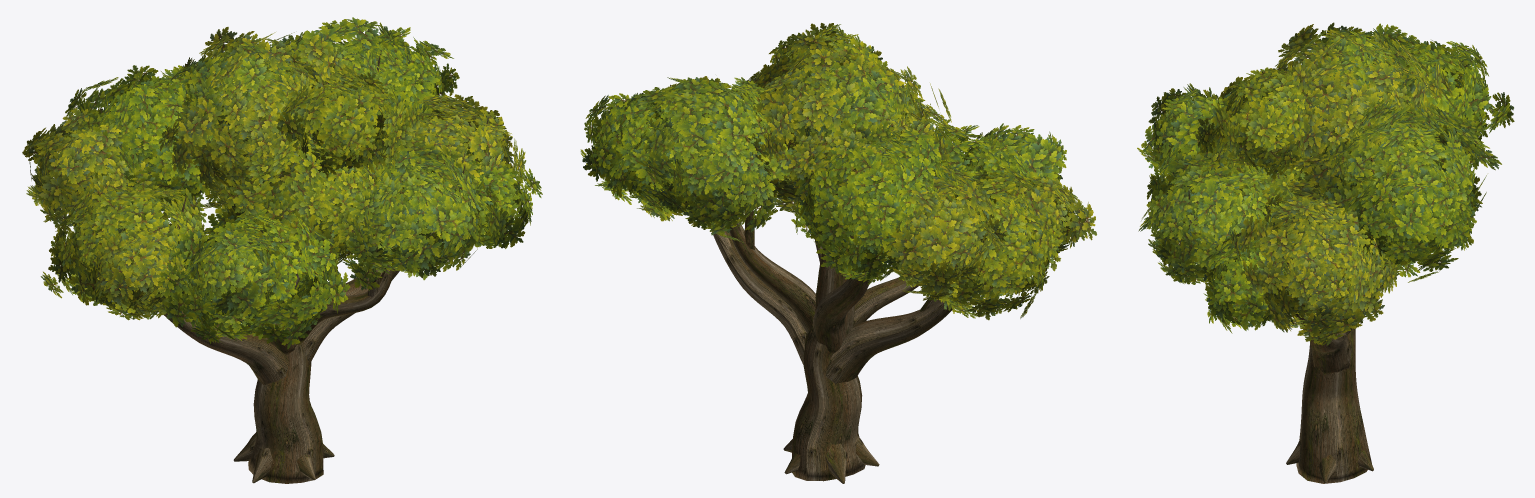
File: sunhaven-concept-oak-v2.glb
3 renders of one model, left to right at view 1: azimuth 30°, elevation 25°; view 2: azimuth 150°, elevation 25°; view 3: azimuth 270°, elevation 25°, orthographic.
Parts seen in each view (by area): view 1: Irregular clustered oak foliage, Low fork and spreading limbs; view 2: Irregular clustered oak foliage, Low fork and spreading limbs; view 3: Irregular clustered oak foliage, Low fork and spreading limbs.
Boxes of the visible parts, x1,y1,x2,y2 form: Irregular clustered oak foliage: (22, 17, 542, 349); Low fork and spreading limbs: (75, 50, 488, 483); Irregular clustered oak foliage: (580, 23, 1096, 320); Low fork and spreading limbs: (670, 84, 1009, 483); Irregular clustered oak foliage: (1137, 22, 1514, 345); Low fork and spreading limbs: (1188, 129, 1428, 483).
Size of the model in its own units: 10.92 by 9.78 by 8.04.
Materials: 2 (2 with a texture image).
